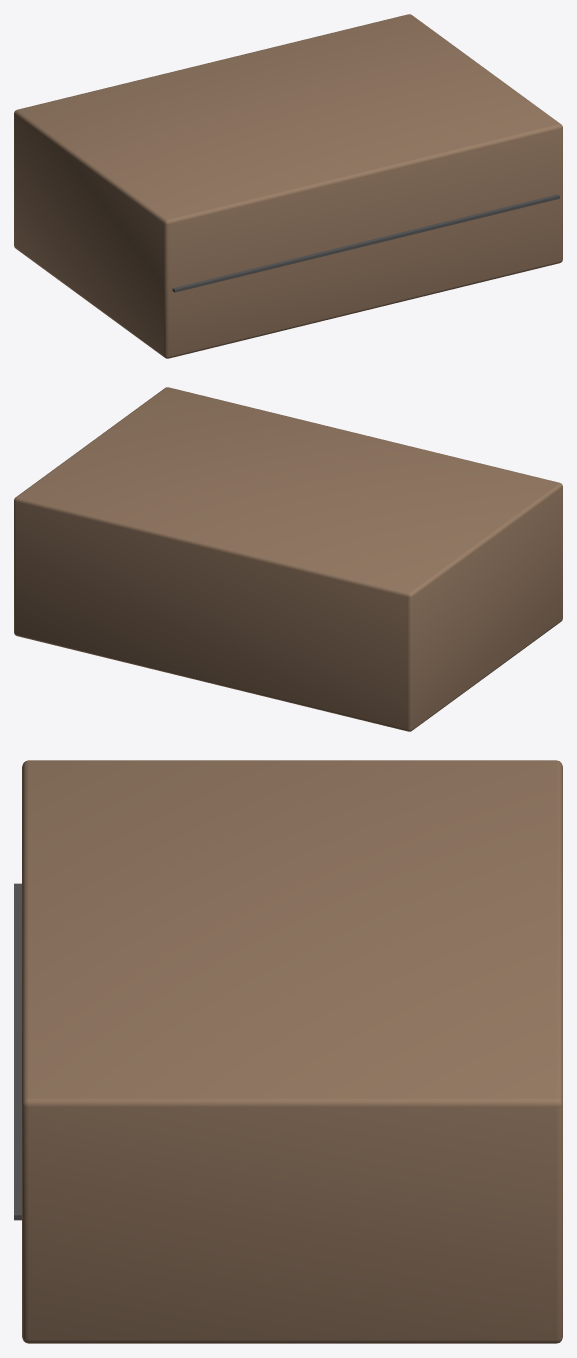
File: it_nightstand.glb
3 views of the same model, one above another, from view 1: azimuth 30°, elevation 25°; view 2: azimuth 150°, elevation 25°; view 3: azimuth 270°, elevation 25° (orthographic). The views are drawn at different scales.
Visible parts, largest first — view 1: body, gap; view 2: body; view 3: body, gap.
Boxes of the visible parts, x1,y1,x2,y2 form: body: (14,14,562,358); gap: (172,194,559,292); body: (14,387,562,731); body: (22,760,562,1343); gap: (14,883,21,1220).
Size of the model in its own units: 0.6 by 0.2 by 0.406.
